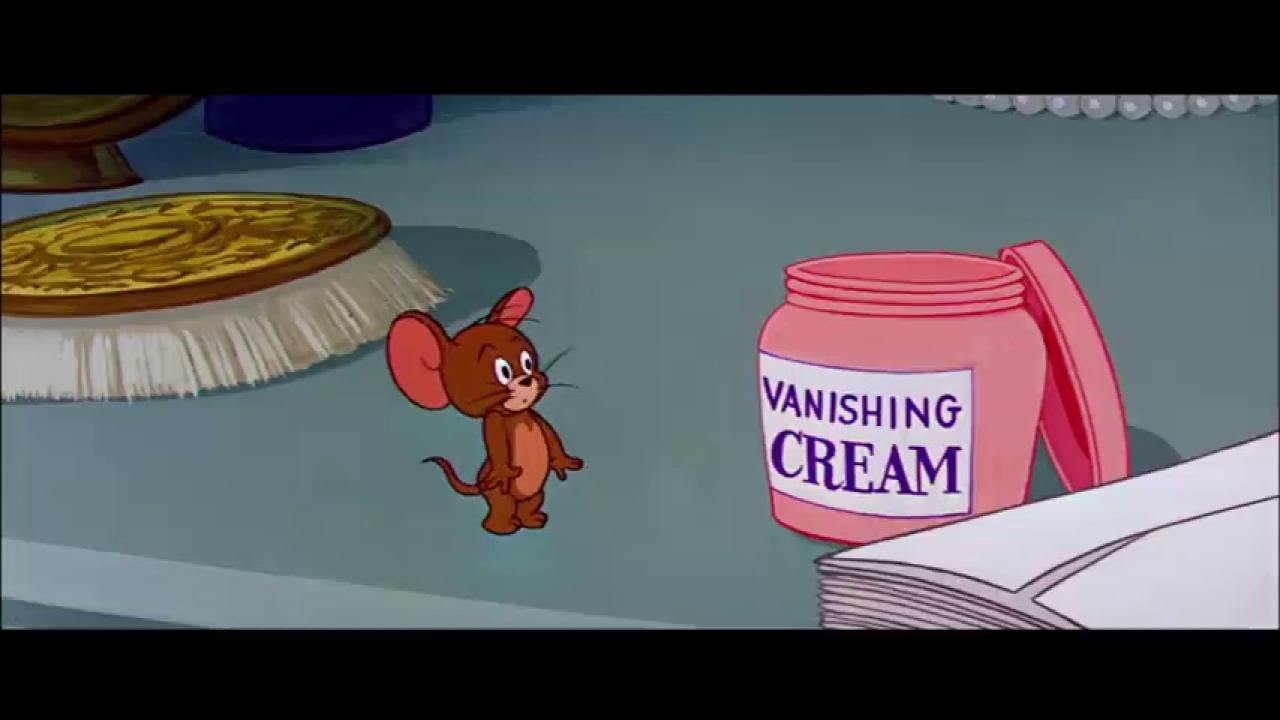Jerry: (384, 283, 586, 538)
